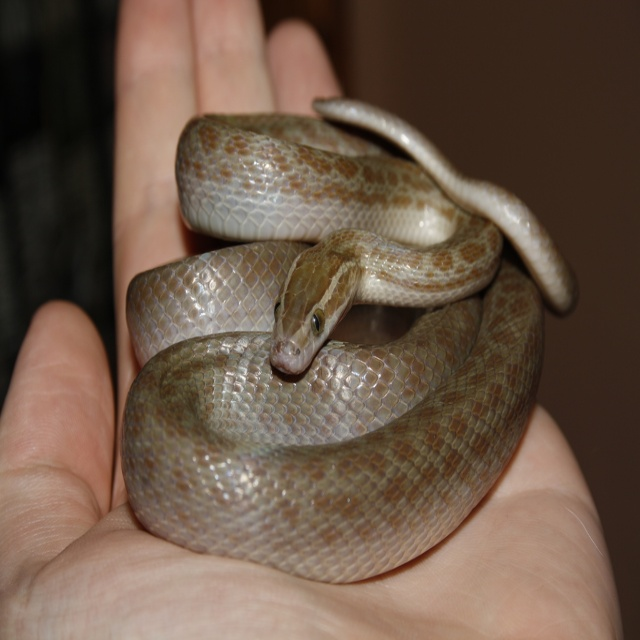Snake: (119, 98, 579, 585)
